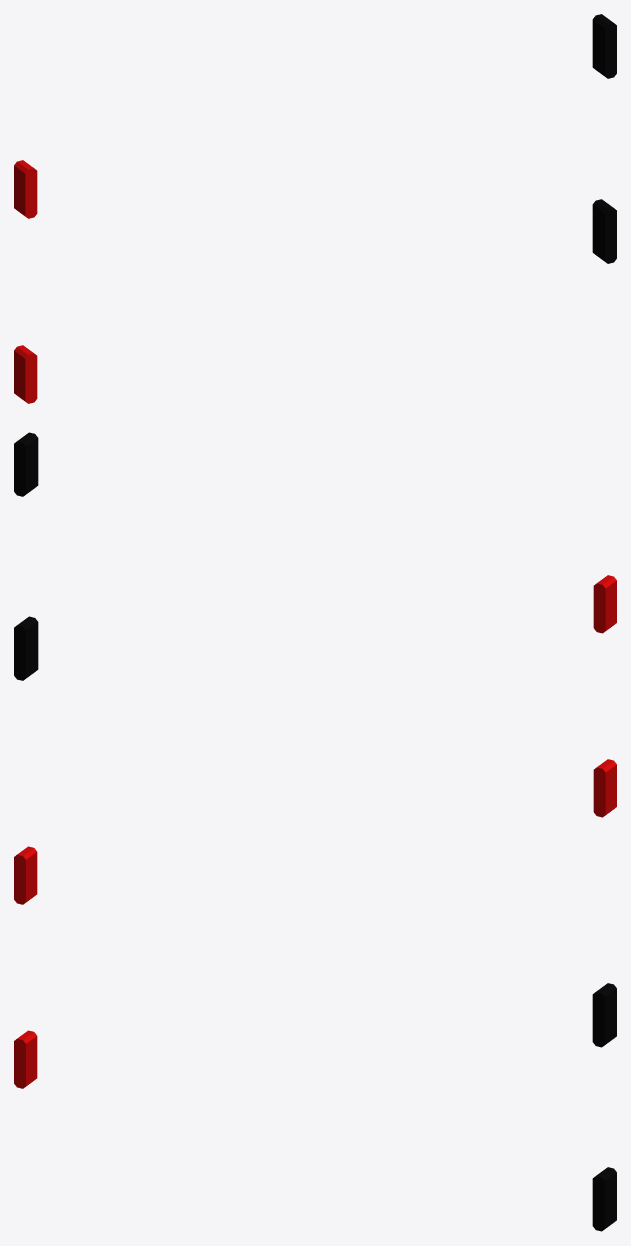
The model's file is SM_TransitSystemV1_CarHatchback_Lens.obj.
3 renders of one model, top to bottom at view 1: azimuth 30°, elevation 25°; view 2: azimuth 150°, elevation 25°; view 3: azimuth 330°, elevation 25°, orthographic.
Visible parts, largest first — view 1: Headlamp_-1, Headlamp_1, Taillamp_1, Taillamp_-1; view 2: Headlamp_1, Headlamp_-1, Taillamp_-1, Taillamp_1; view 3: Headlamp_-1, Headlamp_1, Taillamp_-1, Taillamp_1.
Boxes of the visible parts, left/top/right/bottom form: Headlamp_-1: left=592, top=14, right=616, bottom=78; Headlamp_1: left=592, top=199, right=616, bottom=263; Taillamp_1: left=14, top=345, right=37, bottom=403; Taillamp_-1: left=14, top=160, right=37, bottom=218; Headlamp_1: left=14, top=616, right=38, bottom=680; Headlamp_-1: left=14, top=432, right=38, bottom=496; Taillamp_-1: left=593, top=575, right=616, bottom=633; Taillamp_1: left=593, top=759, right=616, bottom=817; Headlamp_-1: left=592, top=983, right=616, bottom=1047; Headlamp_1: left=592, top=1167, right=616, bottom=1231; Taillamp_-1: left=14, top=846, right=37, bottom=904; Taillamp_1: left=14, top=1030, right=37, bottom=1088.
Size of the model in its own units: 392 by 151 by 15.5.
